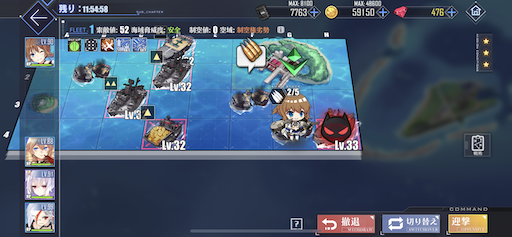boss: (312, 111, 364, 150)
lv1: (141, 107, 187, 152), (151, 51, 193, 93)
lv2: (103, 76, 146, 119)
